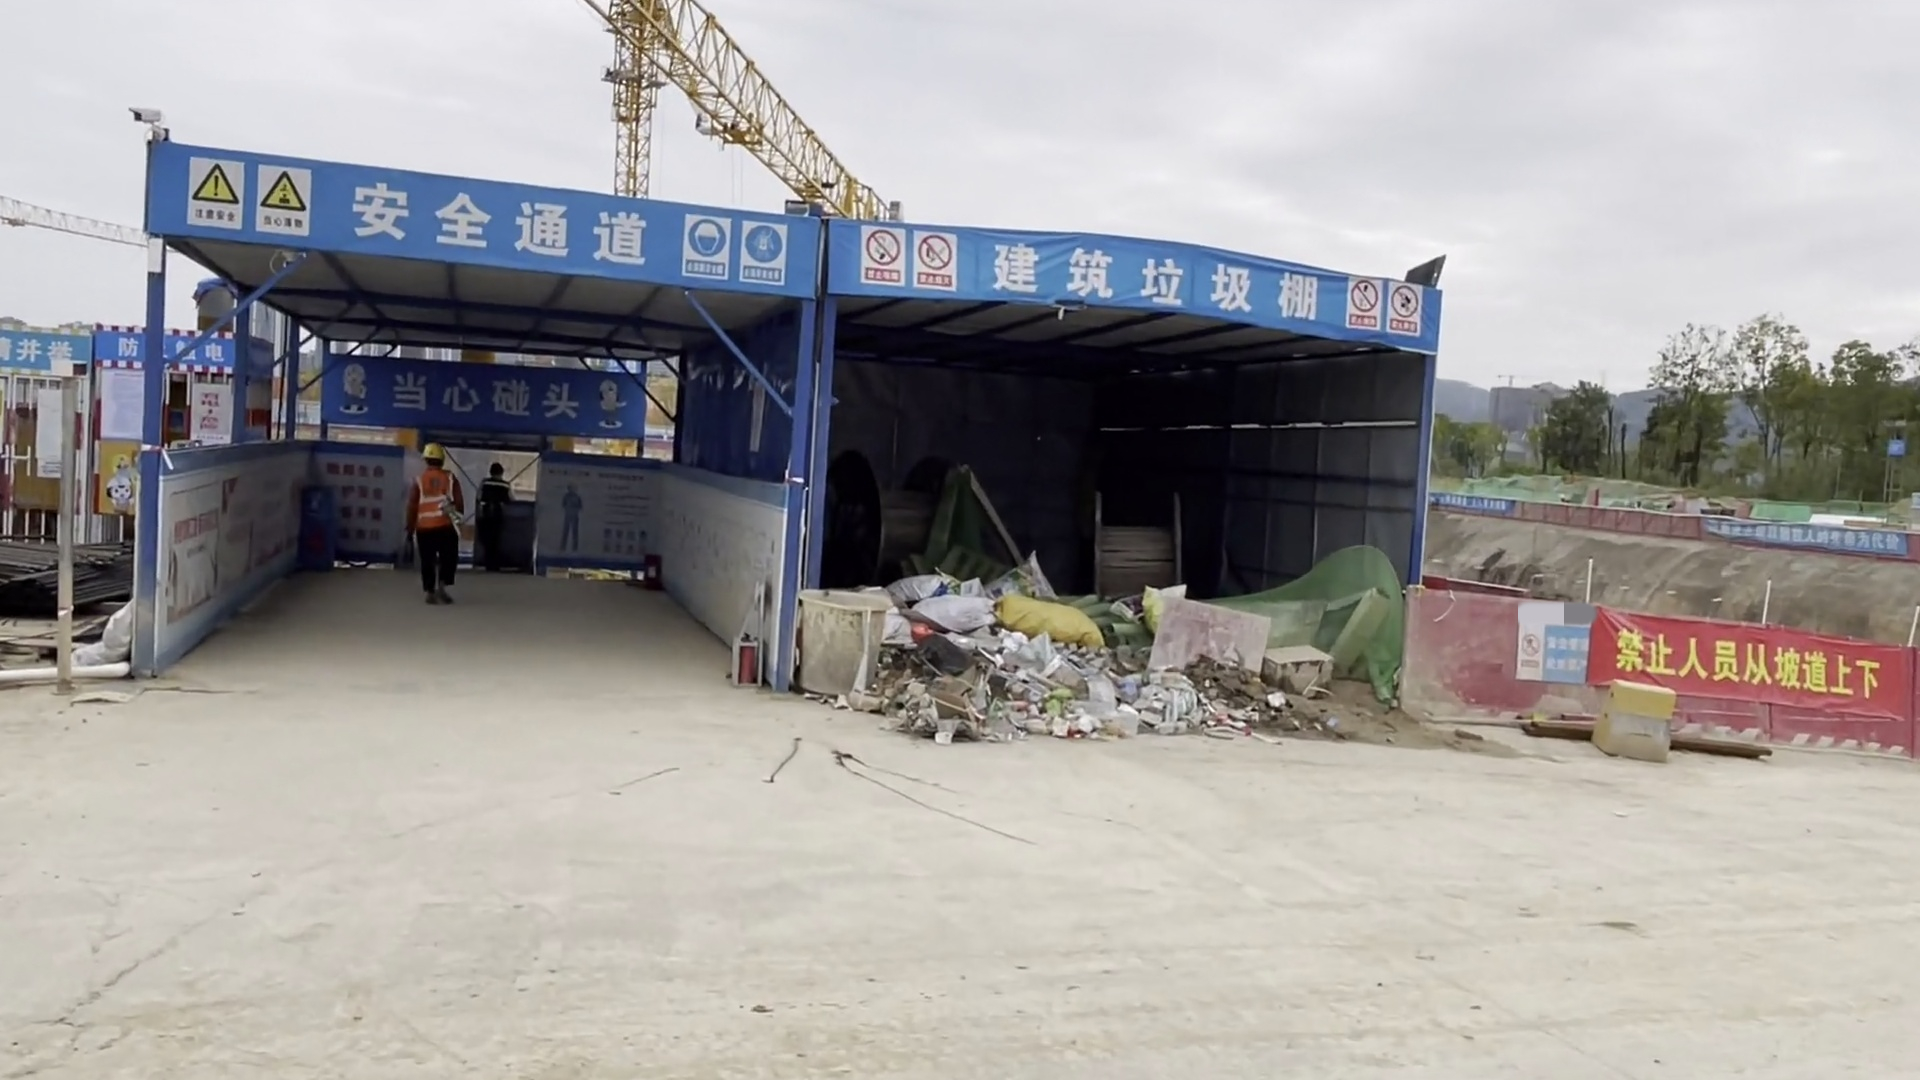helmet: (419, 440, 445, 462)
person: (404, 440, 471, 612), (475, 467, 516, 569)
slogan: (136, 129, 1449, 375), (1582, 599, 1899, 712), (323, 351, 652, 433), (4, 318, 232, 392), (1702, 518, 1906, 557)
vest: (412, 457, 454, 535)
